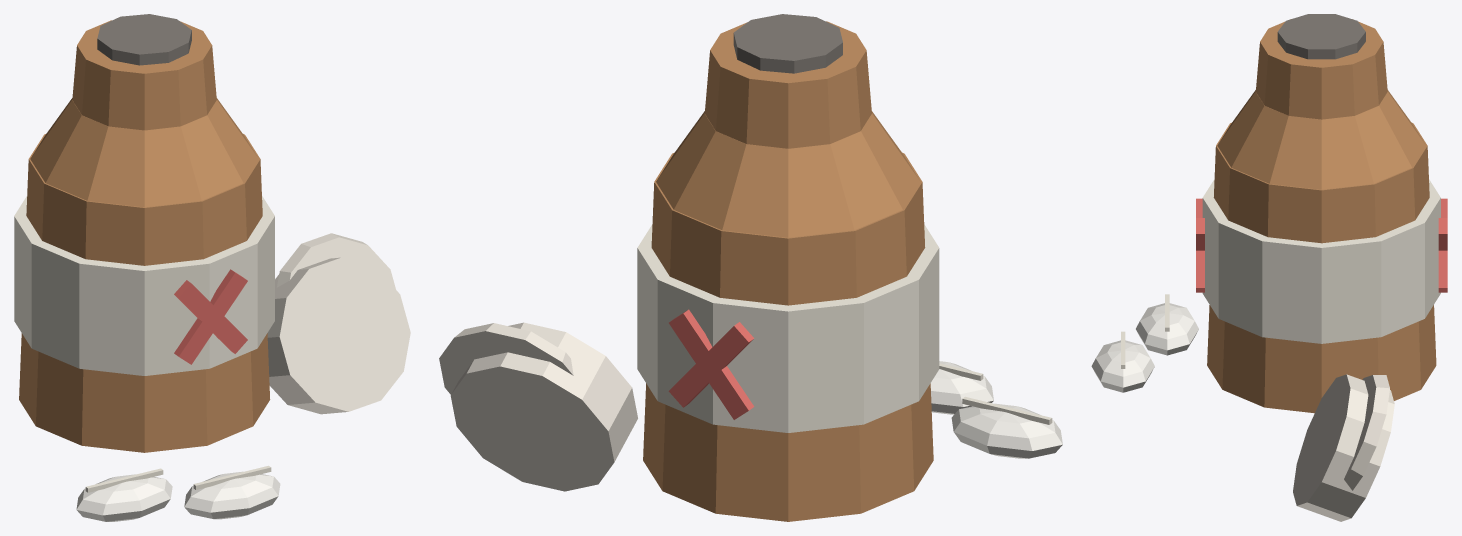
Rendered from expiredMedicine.glb.
The picture shows the model from 3 angles, left to right: view 1: azimuth 30°, elevation 25°; view 2: azimuth 150°, elevation 25°; view 3: azimuth 270°, elevation 25°; orthographic projection. The views are drawn at different scales.
Visible parts, largest first — view 1: Bottle, LabelBand, Cap, Shoulder, Neck, Hole, PillB, PillA, CapTop, XB1, XB2, ScoreA (+1 smaller); view 2: Bottle, LabelBand, Shoulder, Cap, Neck, Hole, PillA, CapTop, XF1, XF2, PillB, ScoreA; view 3: Bottle, LabelBand, Shoulder, Neck, Cap, Hole, PillA, PillB, CapTop, XF2, XB2.
Boxes of the visible parts, x1,y1,x2,y2 form: Bottle: (19,134,270,452); LabelBand: (14,196,274,375); Cap: (267,257,410,414); Shoulder: (30,98,258,207); Neck: (72,20,216,130); Hole: (97,14,191,65); PillB: (184,471,280,519); PillA: (76,474,172,521); CapTop: (277,233,395,289); XB1: (174,269,247,364); XB2: (174,280,247,353); ScoreA: (85,468,163,492); Bottle: (643,152,933,521); LabelBand: (637,224,939,432); Shoulder: (656,111,920,237); Cap: (450,322,637,491); Neck: (704,21,871,148); Hole: (733,14,842,73); PillA: (951,403,1062,458); CapTop: (439,323,573,394); XF1: (669,309,754,419); XF2: (668,322,754,407); PillB: (930,361,993,414); ScoreA: (962,396,1052,424); Bottle: (1207,122,1436,413); LabelBand: (1202,179,1440,343); Shoulder: (1217,90,1425,189); Neck: (1255,19,1387,119); Cap: (1293,374,1394,521); Hole: (1277,14,1365,59); PillA: (1136,303,1198,355); PillB: (1091,340,1154,392); CapTop: (1344,375,1389,490); XF2: (1438,198,1447,292); XB2: (1196,198,1204,292).
Bounding box in the file's own units: 0.2042 × 0.197 × 0.1614.
